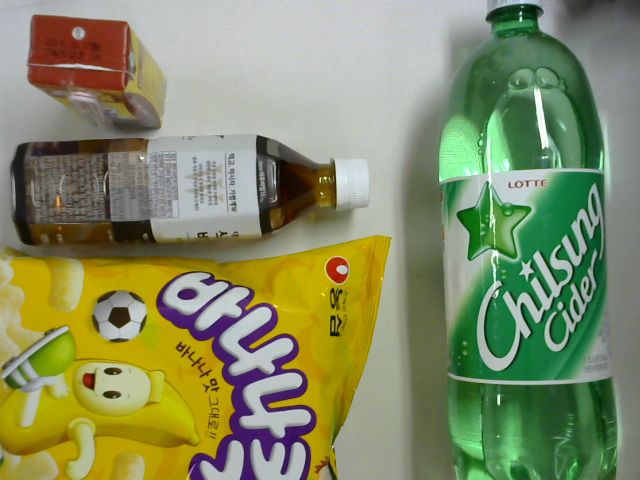Banana_Kick: (1, 244, 391, 480)
Chilseong_Cider_1.5L: (439, 4, 626, 480)
Choco_E_Mong: (25, 12, 173, 134)
Post-meal_recipe_W_tea_500ml: (9, 136, 375, 254)
